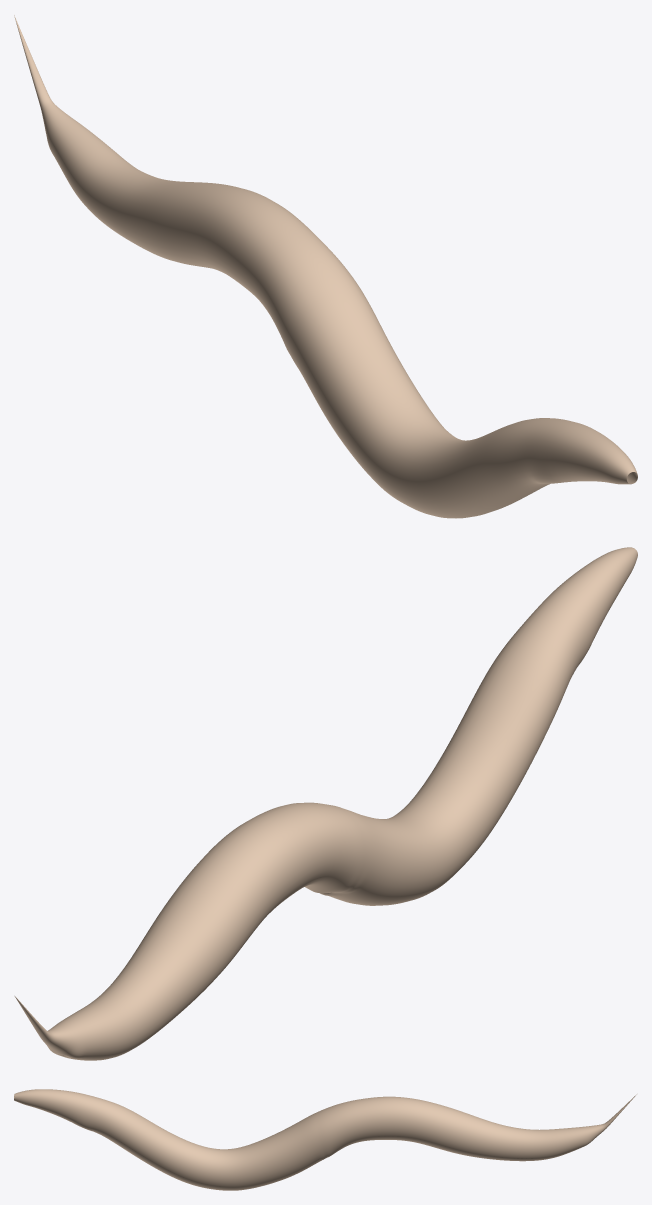
File: worm_outer.obj
3 views of the same model, one above another, from view 1: azimuth 30°, elevation 25°; view 2: azimuth 150°, elevation 25°; view 3: azimuth 270°, elevation 25° (orthographic). The views are drawn at different scales.
Parts seen in each view (by area): view 1: Cuticle; view 2: Cuticle; view 3: Cuticle.
Boxes of the visible parts, bbox=[...] form: Cuticle: bbox=[14, 15, 637, 518]; Cuticle: bbox=[14, 547, 637, 1060]; Cuticle: bbox=[14, 1089, 636, 1190].
Size of the model in its own units: 0.6132 by 1.41 by 8.15.
